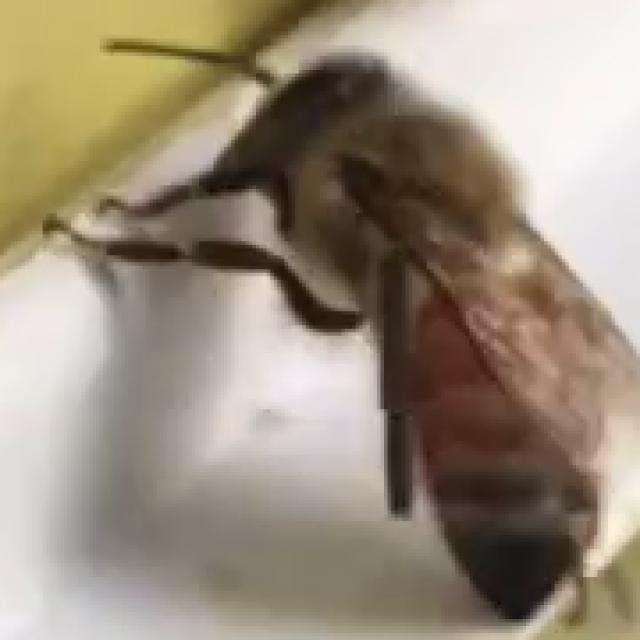honeybee: (146, 29, 640, 616)
